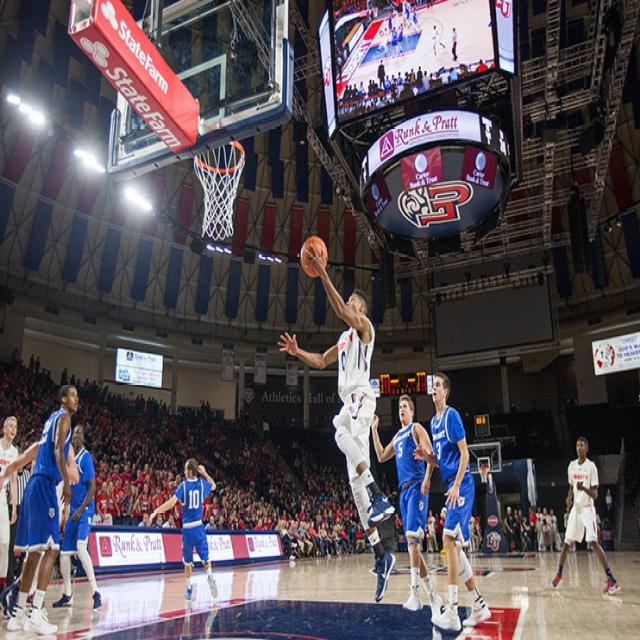body: (0, 345, 278, 538), (274, 232, 400, 608), (278, 412, 420, 564), (412, 368, 492, 635), (5, 379, 80, 637), (368, 390, 445, 626), (331, 0, 485, 116), (0, 434, 81, 620), (548, 430, 622, 598), (424, 495, 618, 557), (147, 454, 220, 601), (51, 422, 103, 612), (0, 409, 22, 620), (4, 444, 31, 588), (0, 607, 100, 640), (175, 596, 222, 640)
